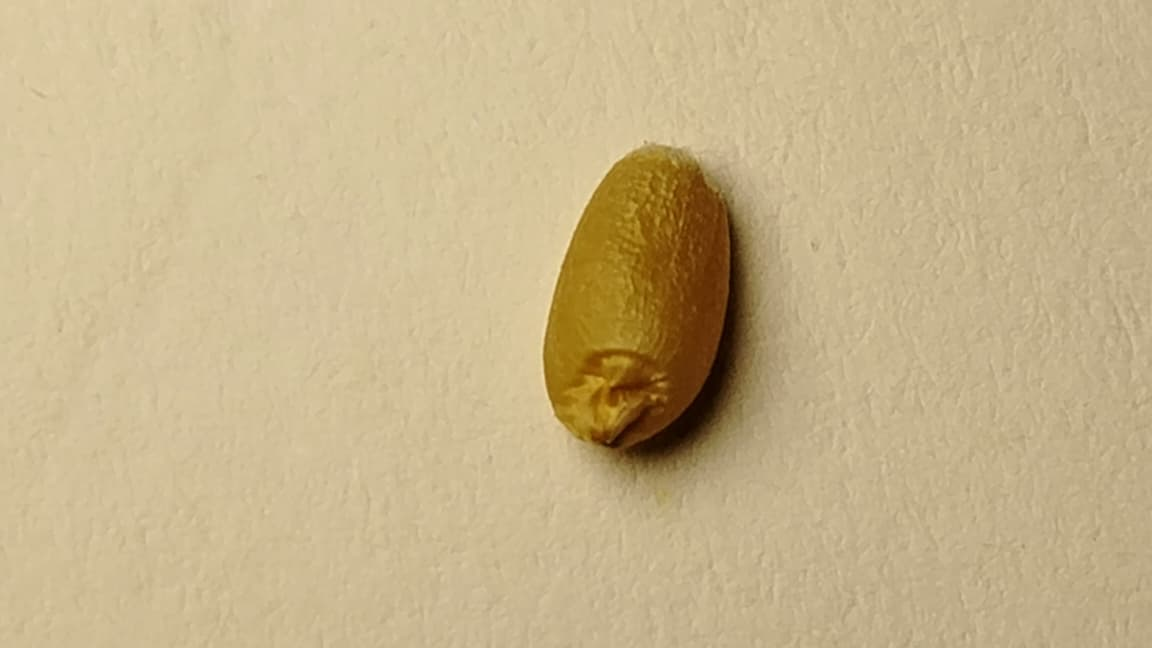healthy: (543, 141, 730, 450)
